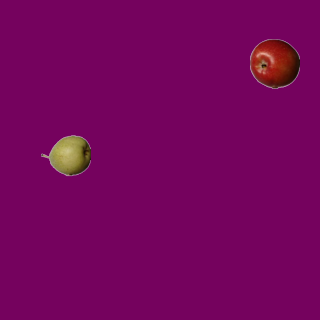Apple Braeburn: (249, 38, 299, 88)
Pear: (40, 130, 90, 180)
